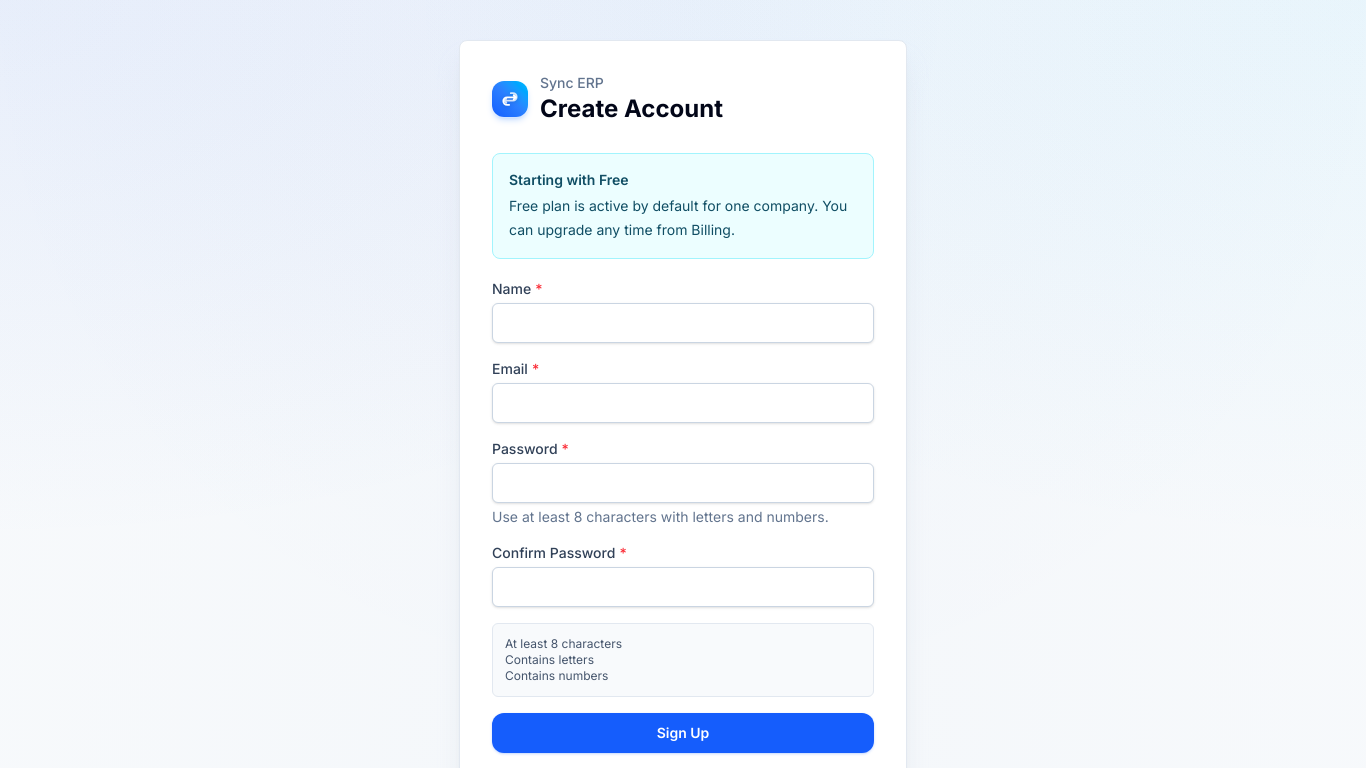
it: RegisterPage › Form Submission › shows error message on registration failure
Type "Test User" into the field labelled "Name*" at (683, 323), box [492,303,874,343]
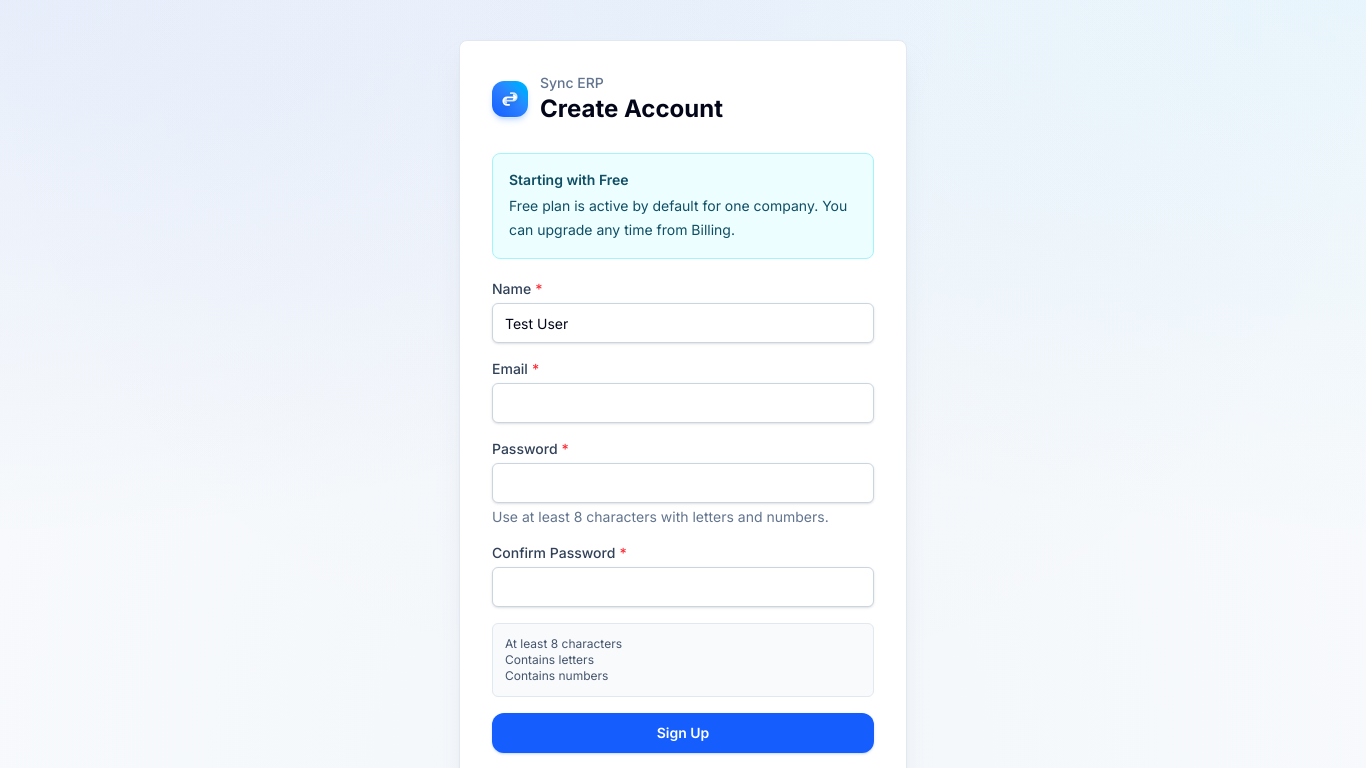
Type "existing@example.com" into the field labelled "Email*" at (683, 403), box [492,383,874,423]
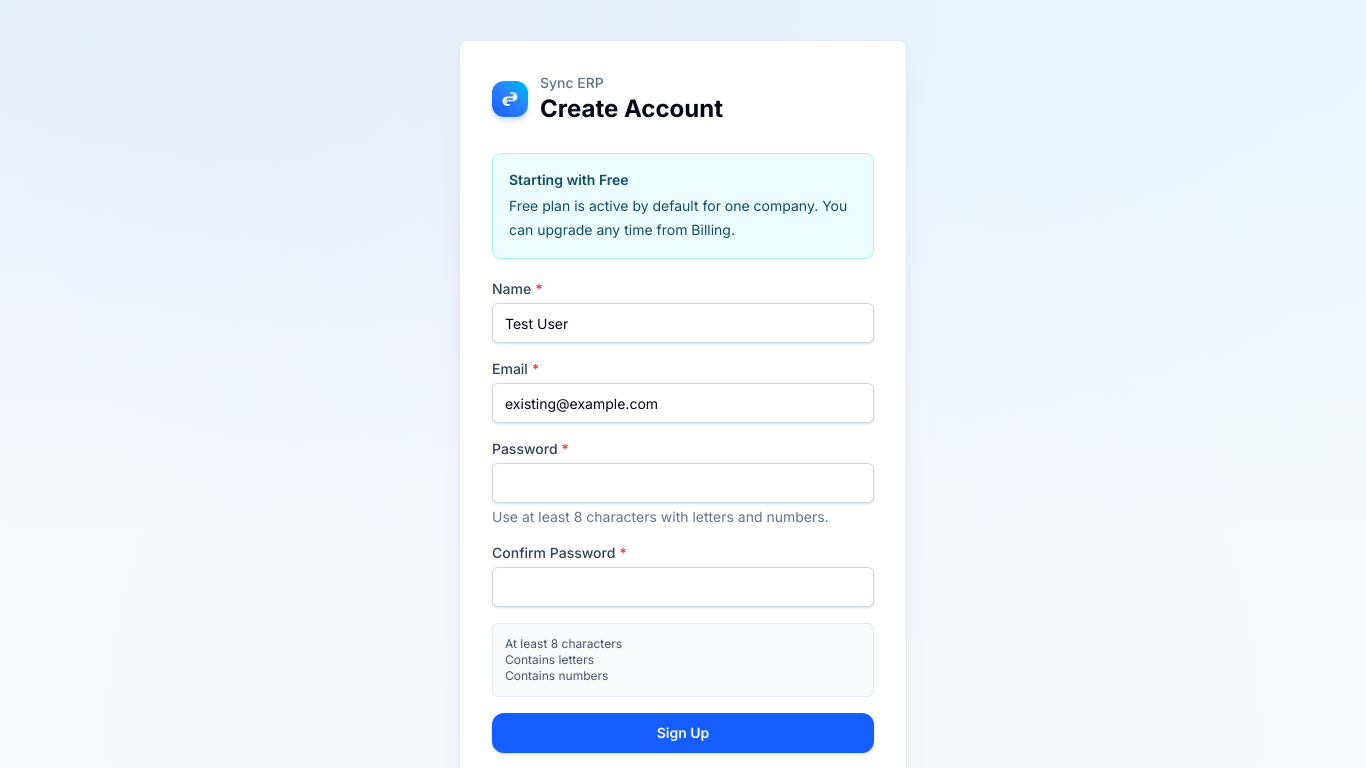
Type "password123" into the password field labelled "Password*" at (683, 483), box [492,463,874,503]
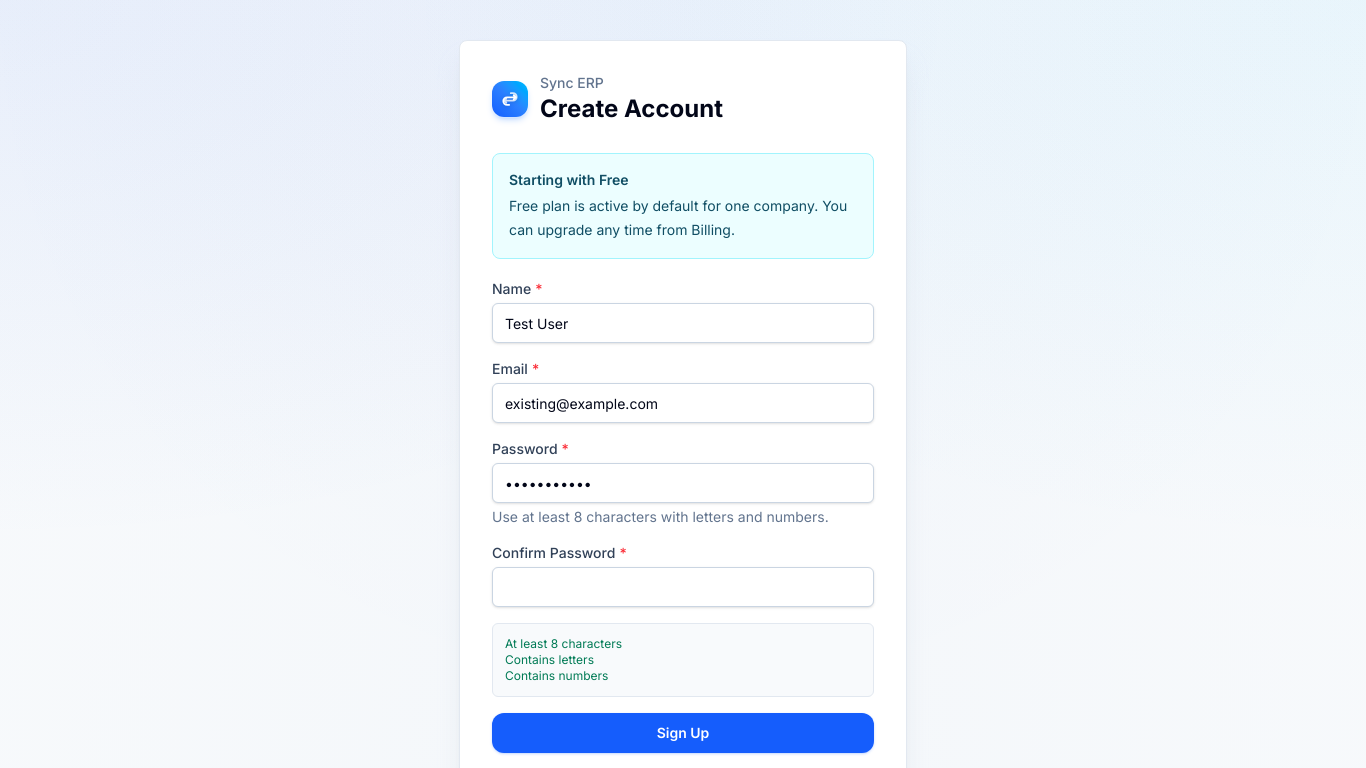
Type "password123" into the password field labelled "Confirm Password*" at (683, 587), box [492,567,874,607]
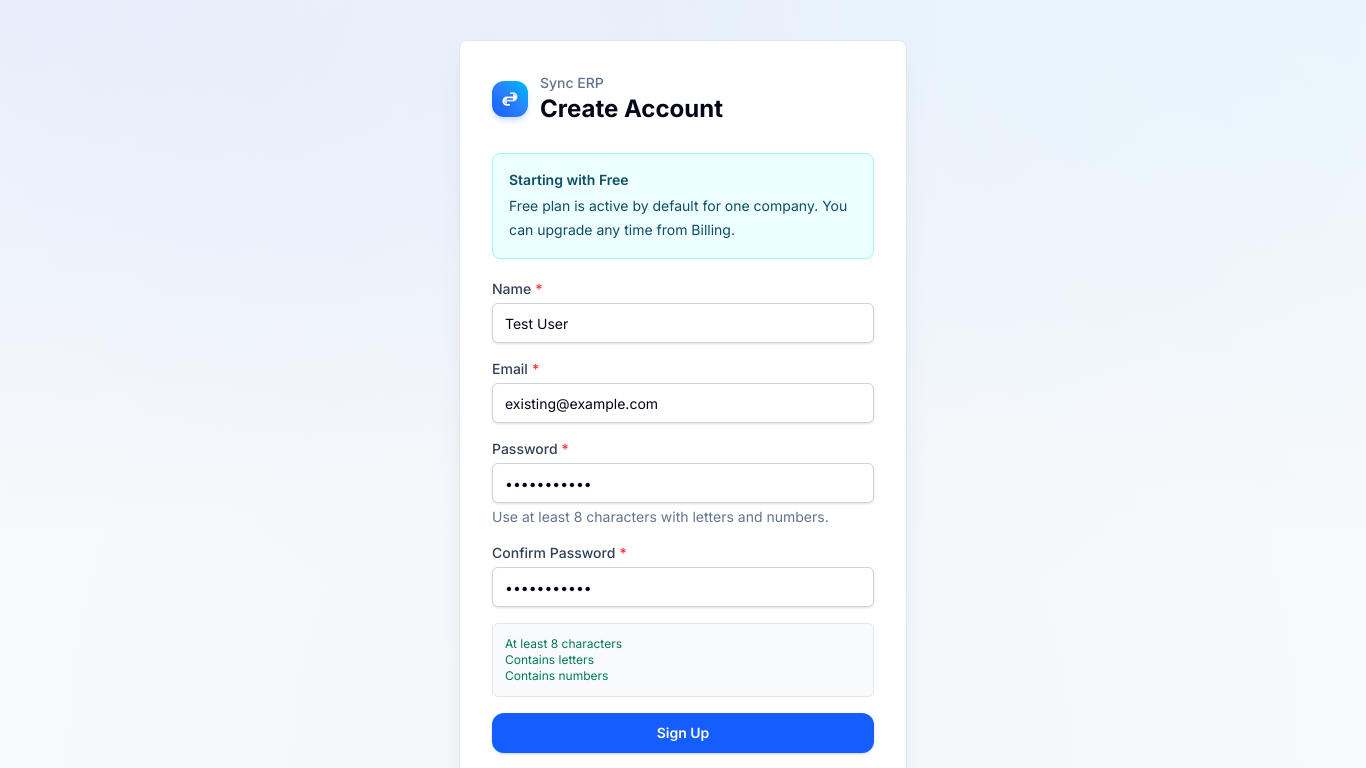
Click the button "Sign Up" at (683, 733), box [492,713,874,753]
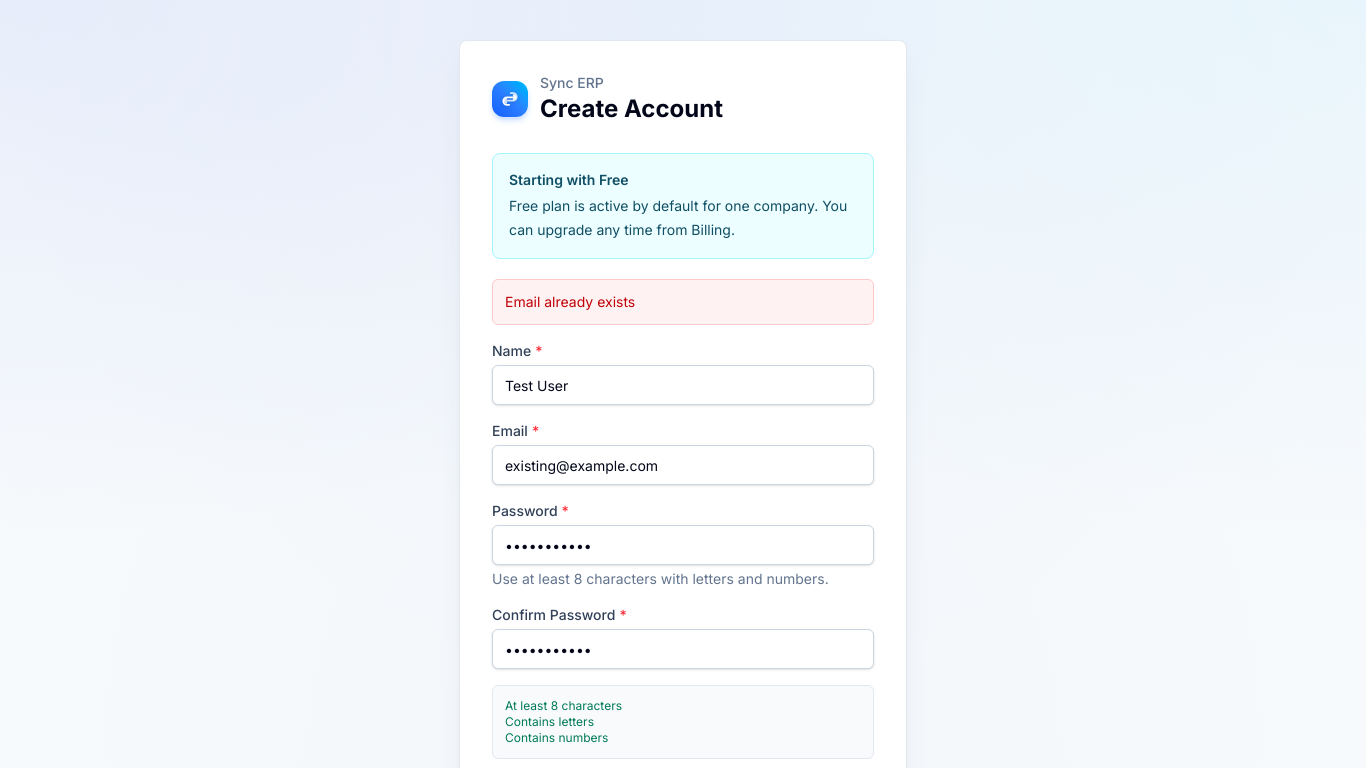
Now the text "Email already exists" is shown, box [492,279,874,325]
